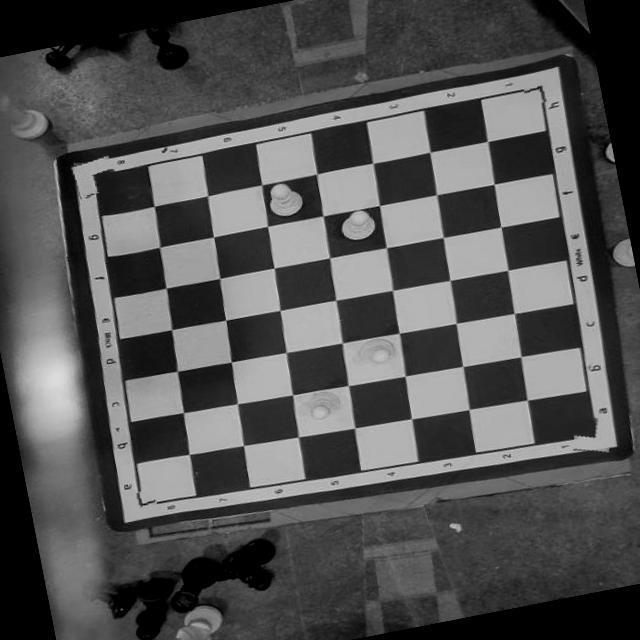chess-table-corners: (68, 151, 120, 198), (569, 411, 615, 455), (520, 68, 556, 105), (124, 488, 160, 520)
